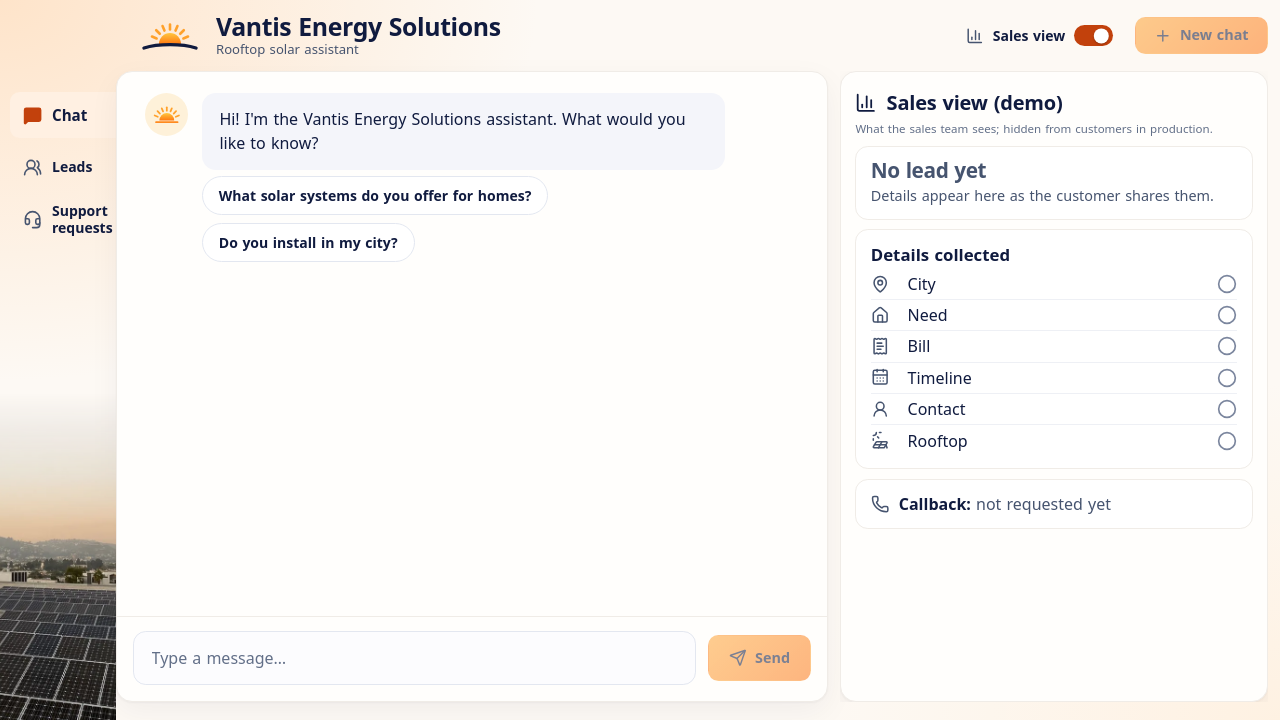
it: errors › network failure: a short 'please try again', the text is kept, nothing crashes
Expected: the text "Hi! I'm the Vantis Energy Solutions assistant. What would you like to know?" is shown, left=219, top=107, right=707, bottom=155
In the text box named "Your message": (415, 658) left=152, top=643, right=678, bottom=673, type "Is there a warranty?"
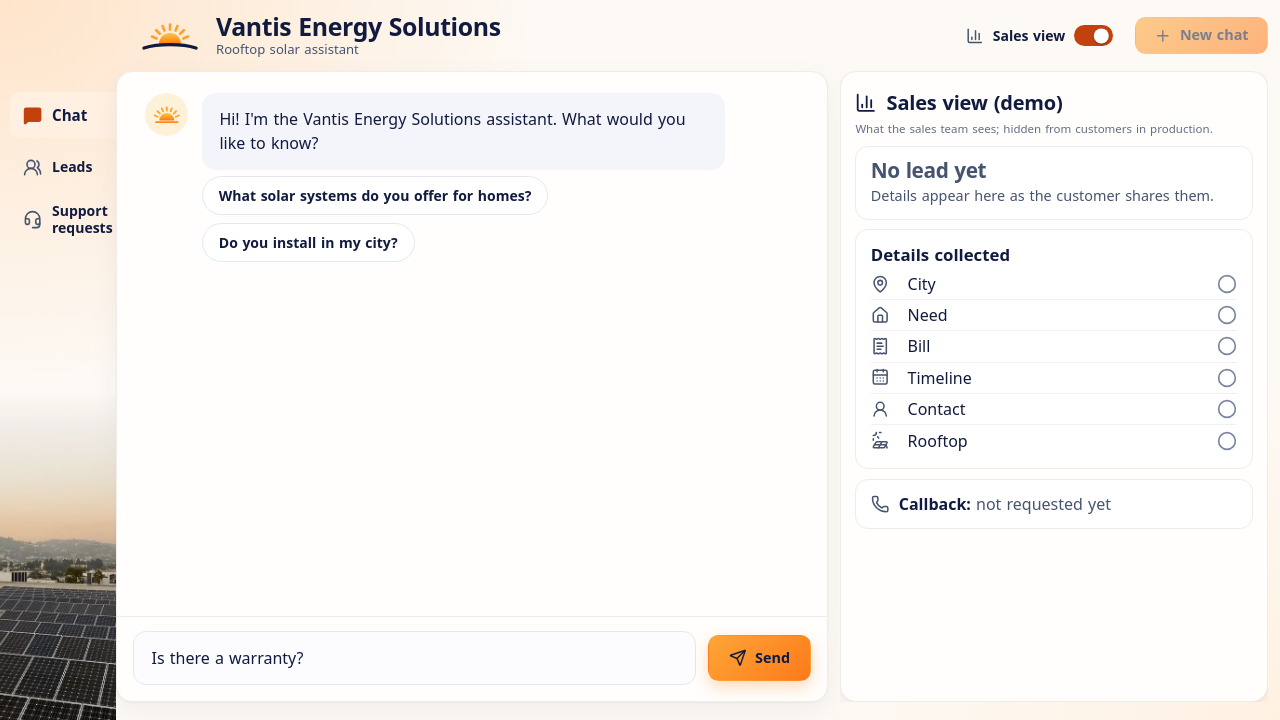
Click the button "Send": (760, 658) left=708, top=635, right=811, bottom=681
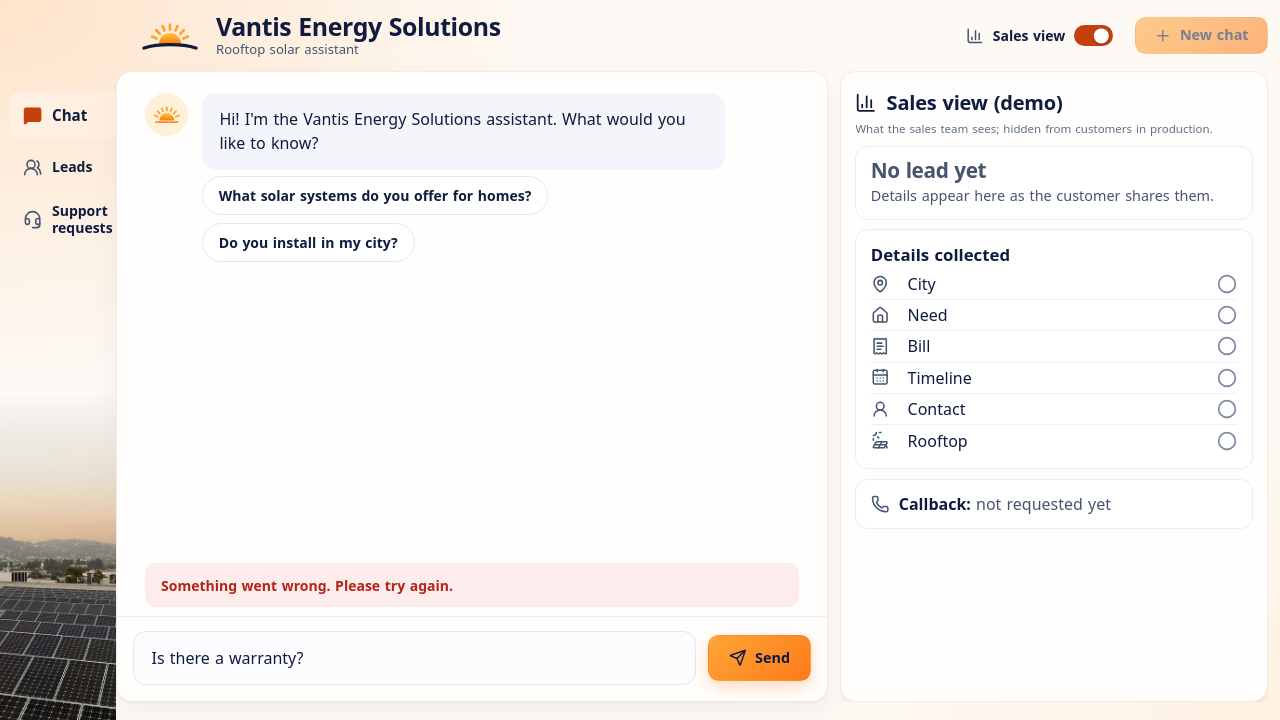
Now the button "Send" is enabled, box left=708, top=635, right=811, bottom=681
Now the message reads "Something went wrong. Please try again.", box left=161, top=576, right=453, bottom=595
